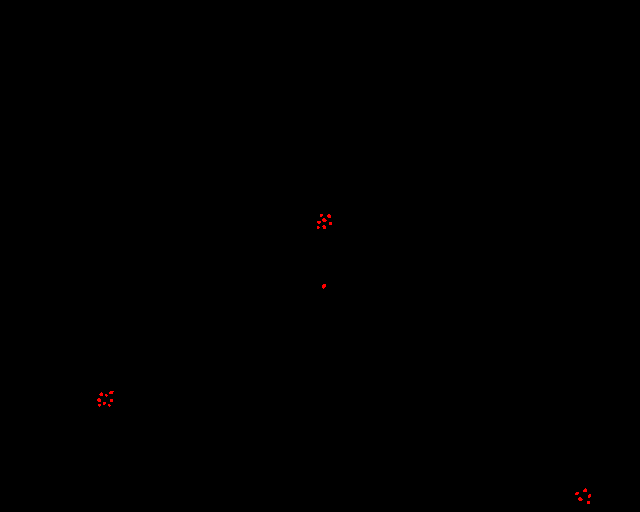Target: (322, 218, 327, 222), (322, 284, 326, 289), (578, 497, 583, 501), (327, 214, 331, 218), (322, 225, 326, 229), (99, 392, 103, 396), (97, 398, 101, 402), (583, 488, 587, 492), (109, 391, 114, 394), (317, 221, 321, 224), (575, 492, 579, 495), (588, 494, 591, 498), (320, 214, 323, 217), (329, 222, 332, 225), (317, 226, 320, 229), (105, 394, 108, 397), (110, 399, 113, 402), (103, 402, 106, 405), (98, 404, 101, 407), (108, 404, 111, 407), (587, 501, 590, 504)
